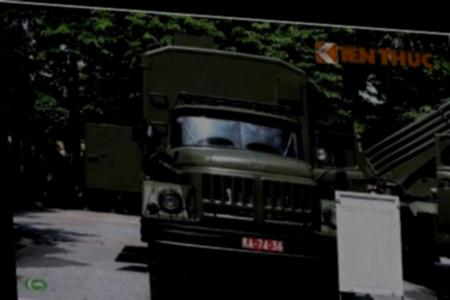License_Plate: (239, 232, 287, 257)
